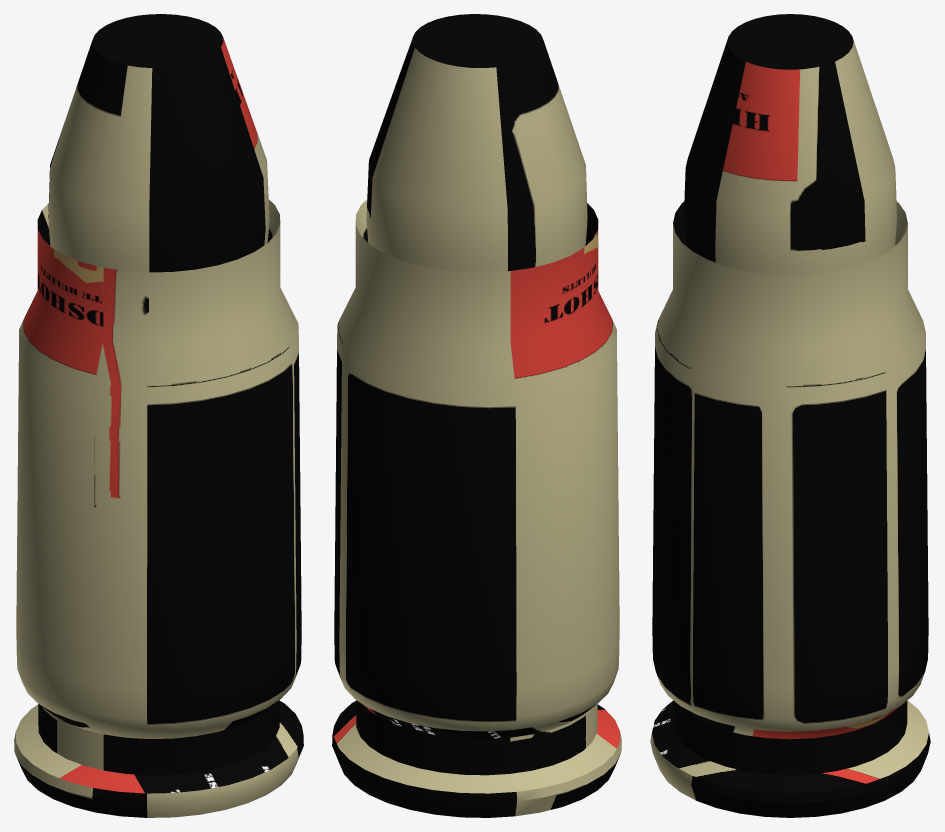
The model's file is PISTOL BULLET.fbx.
The picture shows the model from 3 angles, left to right: view 1: azimuth 30°, elevation 25°; view 2: azimuth 150°, elevation 25°; view 3: azimuth 270°, elevation 25°; orthographic projection.
Visible parts, largest first — view 1: BULLET; view 2: BULLET; view 3: BULLET.
Part boxes in pixels (left/top/right/bottom): BULLET: left=14, top=14, right=303, bottom=817; BULLET: left=332, top=14, right=621, bottom=817; BULLET: left=650, top=14, right=930, bottom=817.
Bounding box in the file's own units: 2.04 × 5.52 × 1.96.
